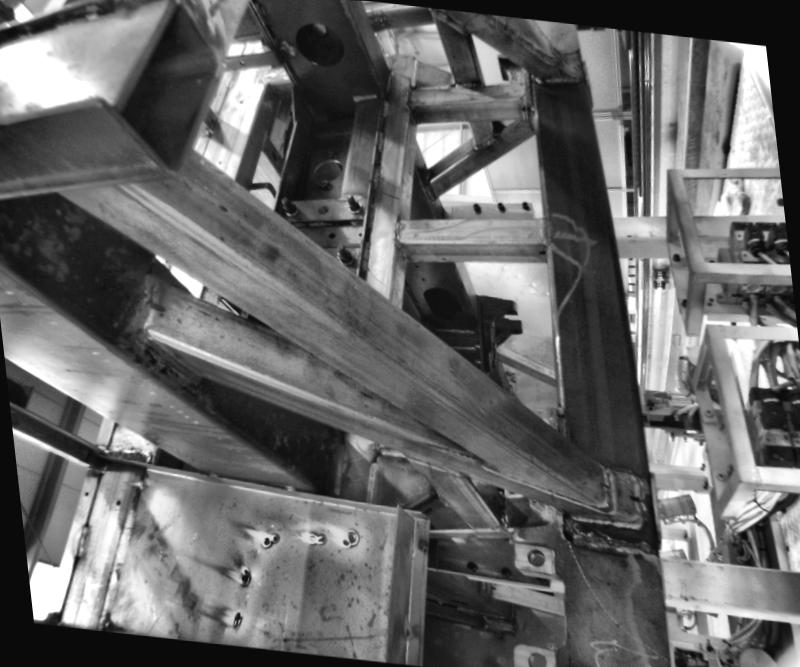bolt: (342, 189, 364, 212), (277, 194, 298, 215), (334, 245, 354, 266)
bracket: (469, 285, 530, 378)
hole: (527, 547, 551, 566), (525, 648, 549, 665), (114, 495, 124, 506), (84, 484, 92, 493)
welding: (568, 512, 662, 533), (641, 476, 658, 531), (72, 519, 94, 556), (606, 461, 620, 514), (540, 214, 558, 241), (206, 466, 230, 481), (391, 213, 402, 242), (280, 479, 306, 490), (137, 485, 148, 498)
